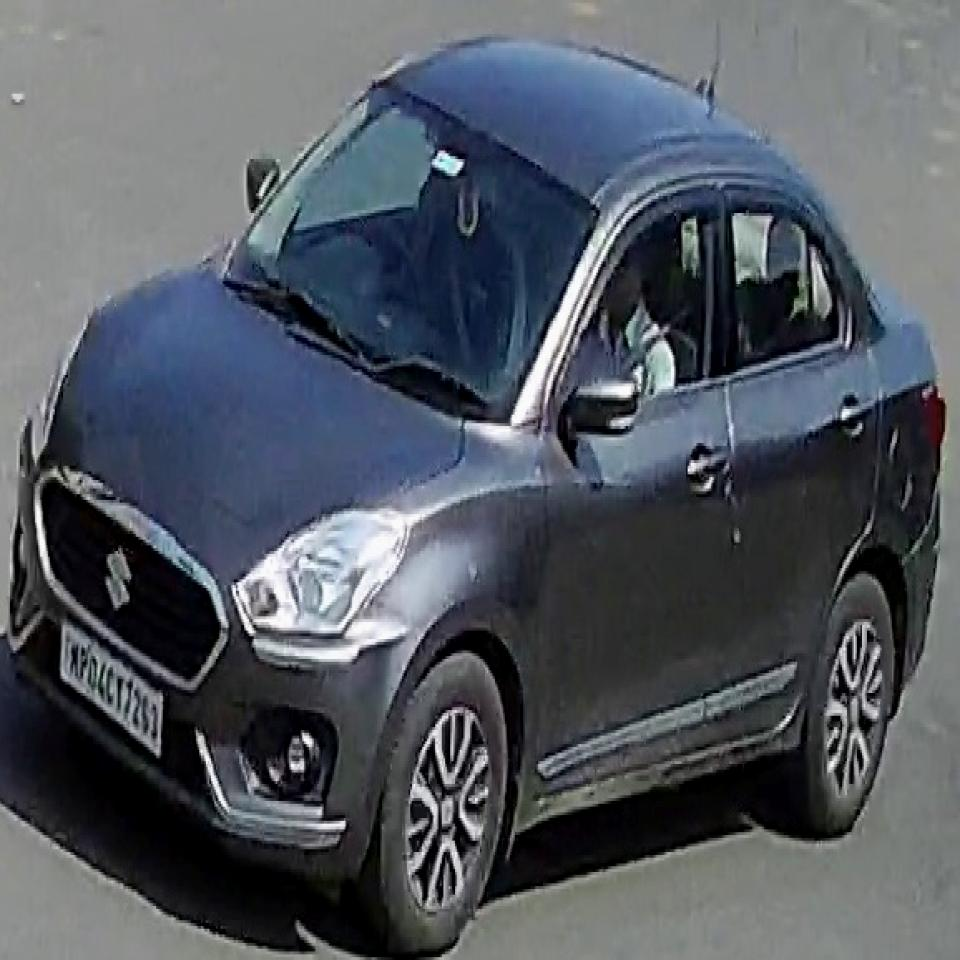head_light: (228, 504, 414, 643)
